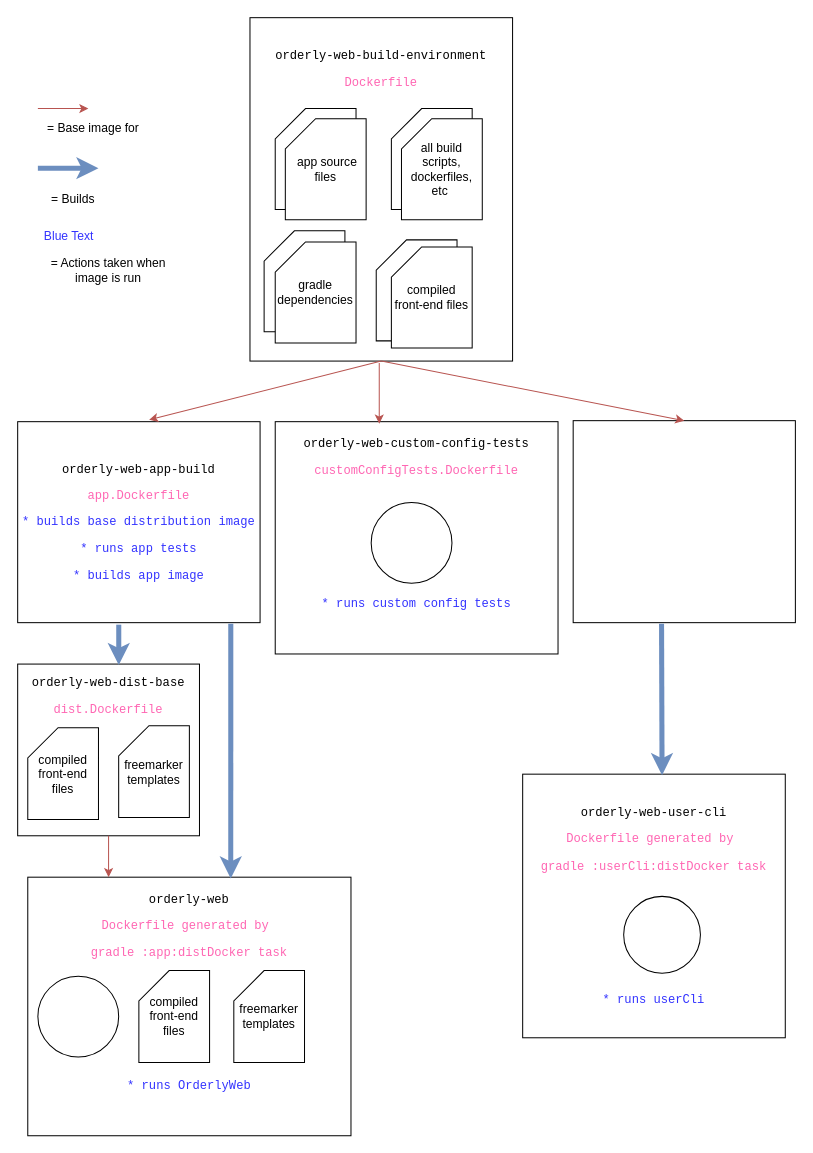
This 813x1153 diagram has some shape labels left out. Here are the shapes that lost their labels. From the top down, the centre of each, then its label:
At (683,521): "orderly-web-cli-build cli.Dockerfile * runs userCli tests * builds userCli image".
At (411,542): "chromedriver".
At (661,934): "userCli java app".
At (78,1016): "OrderlyWeb java app".
